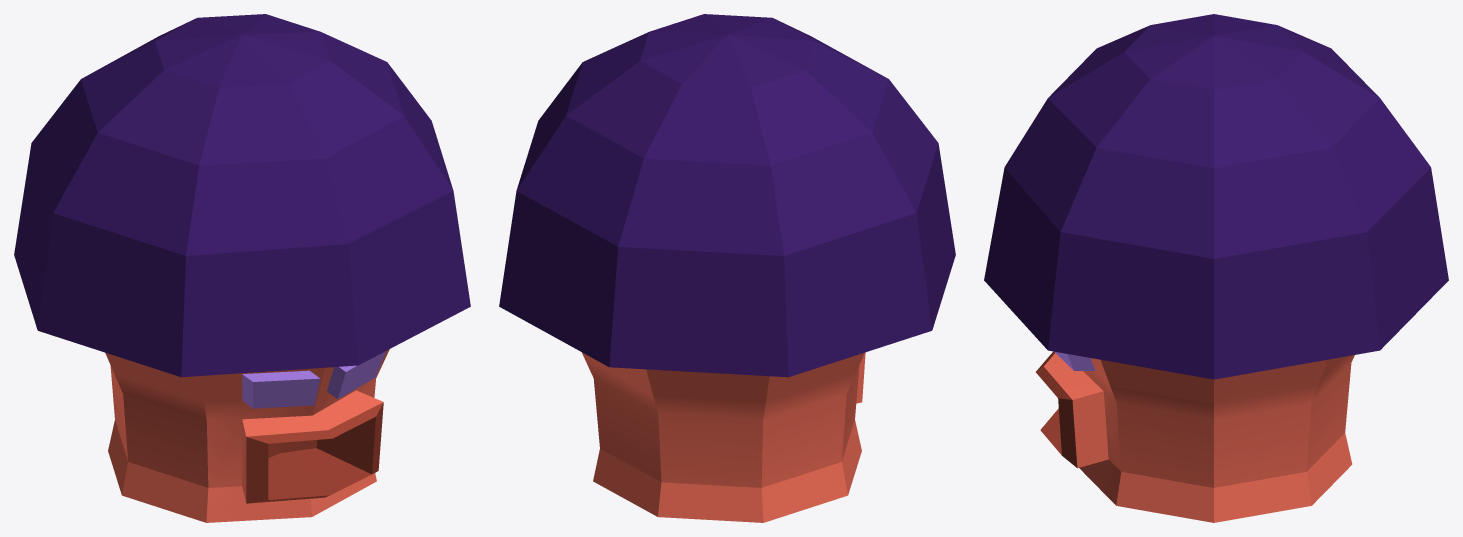
Rendered from Musroom.fbx.
The picture shows the model from 3 angles, left to right: view 1: azimuth 30°, elevation 25°; view 2: azimuth 150°, elevation 25°; view 3: azimuth 270°, elevation 25°; orthographic projection.
Visible parts, largest first — view 1: pSphere12; view 2: pSphere12; view 3: pSphere12.
Part boxes in pixels (left/top/right/bottom): pSphere12: left=14, top=14, right=470, bottom=522; pSphere12: left=499, top=14, right=955, bottom=522; pSphere12: left=984, top=14, right=1448, bottom=522.
Bounding box in the file's own units: 1.5 × 1.51 × 1.48.
